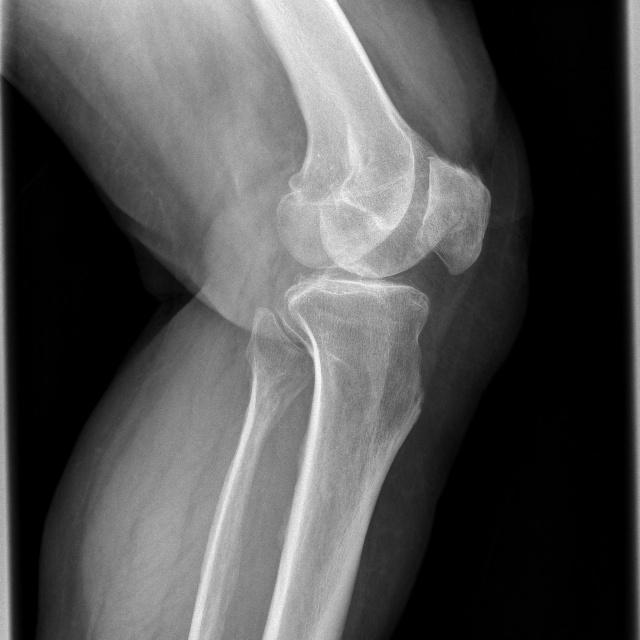Knee: (271, 143, 491, 360)
